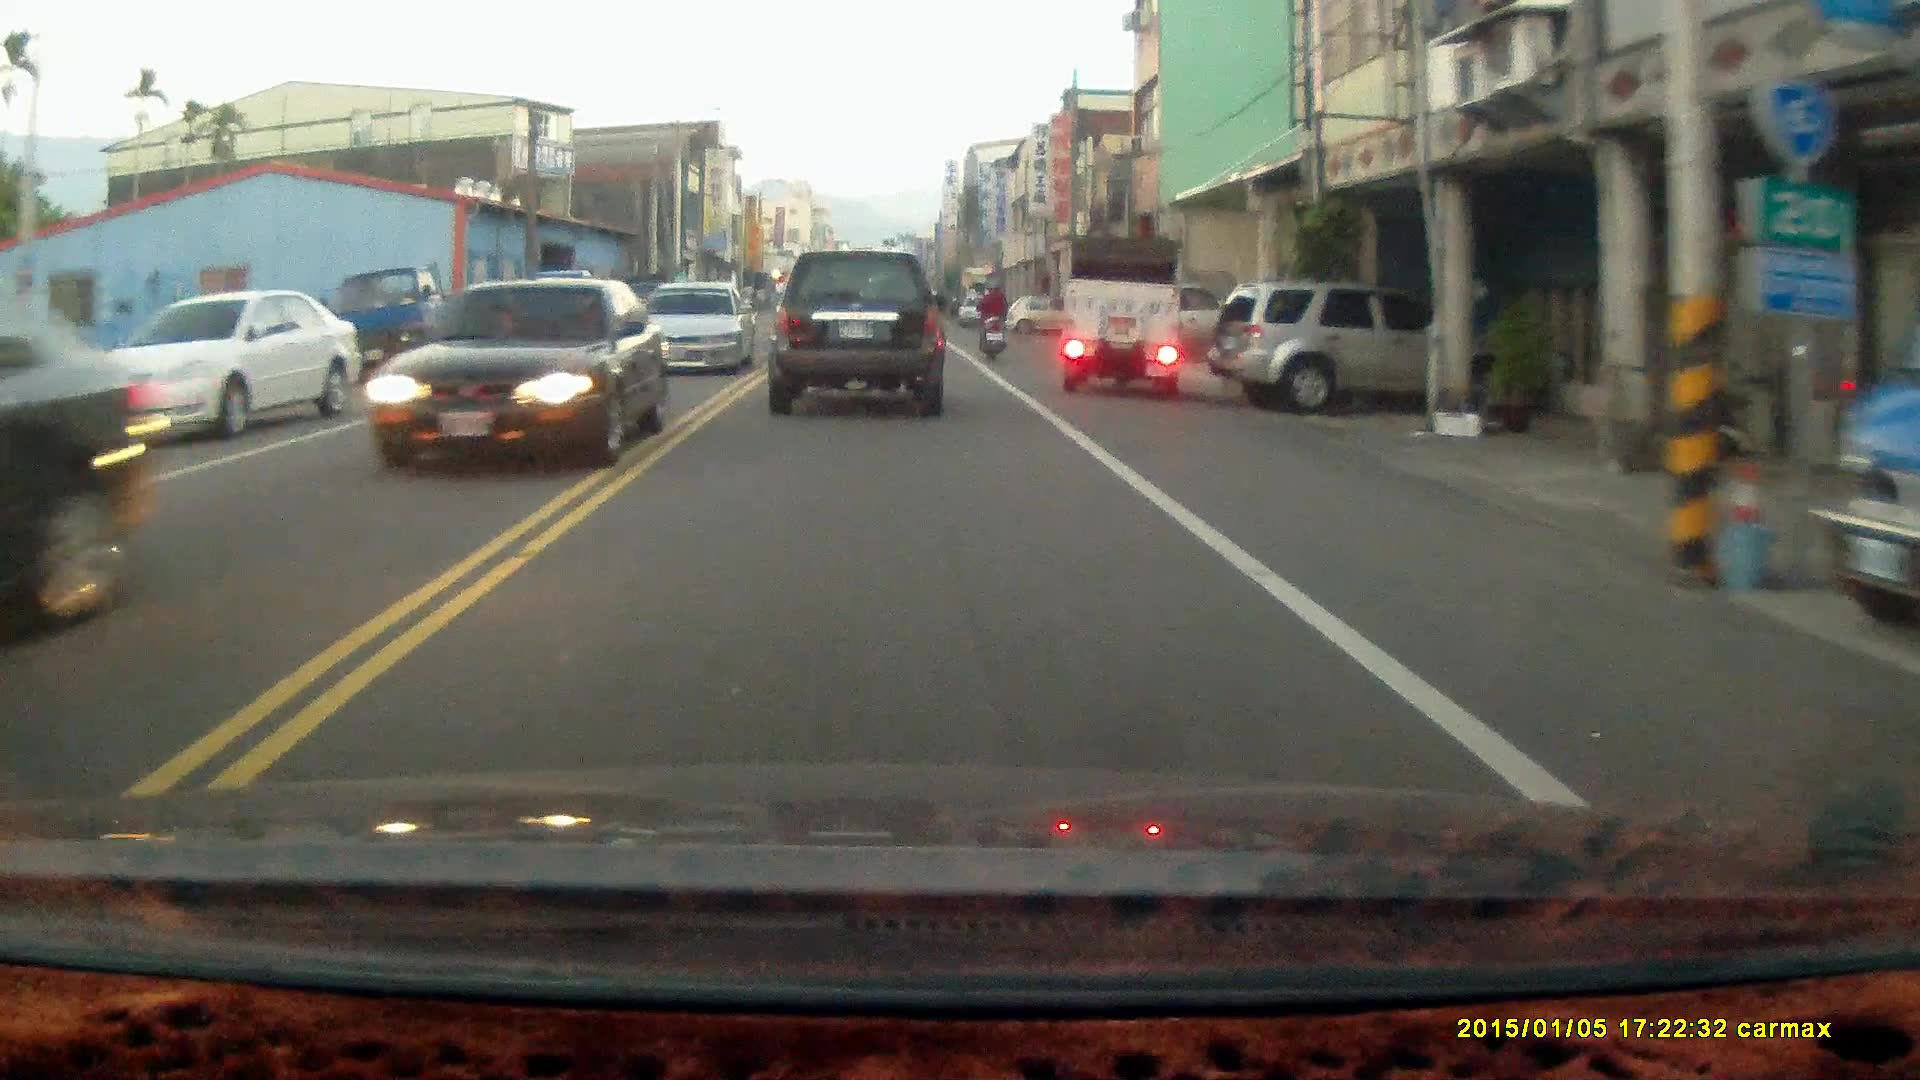rider: (973, 277, 1011, 364)
vehicle: (1, 277, 162, 652), (366, 281, 664, 479), (75, 286, 361, 441), (1221, 283, 1452, 421), (766, 260, 948, 427), (1059, 239, 1185, 398), (639, 286, 755, 382)
